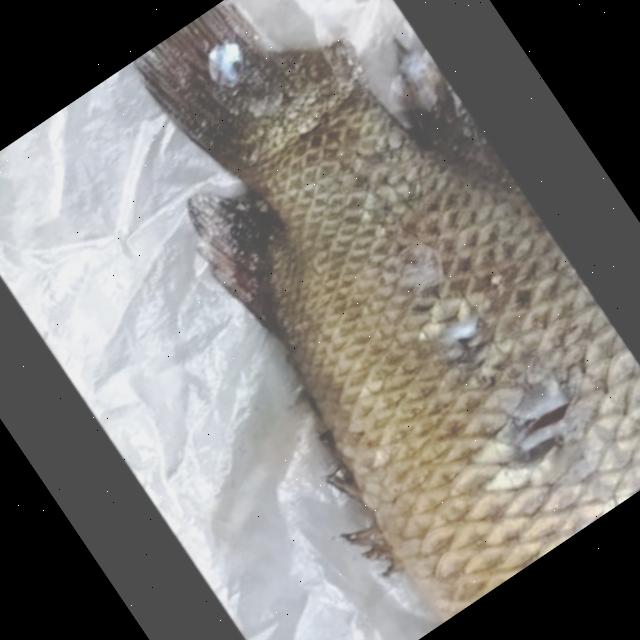Columnaris Disease: (134, 1, 640, 623)
